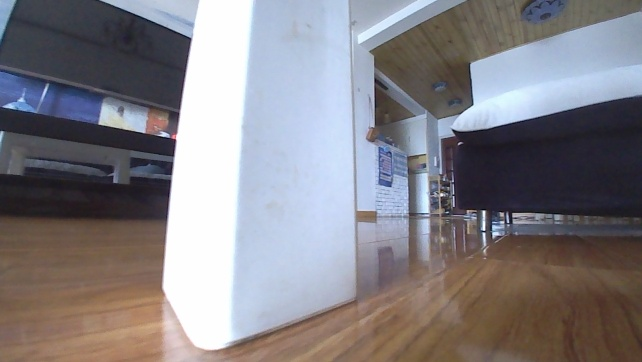TV_stand1: (0, 104, 174, 224)
sofa1: (443, 60, 641, 234)
